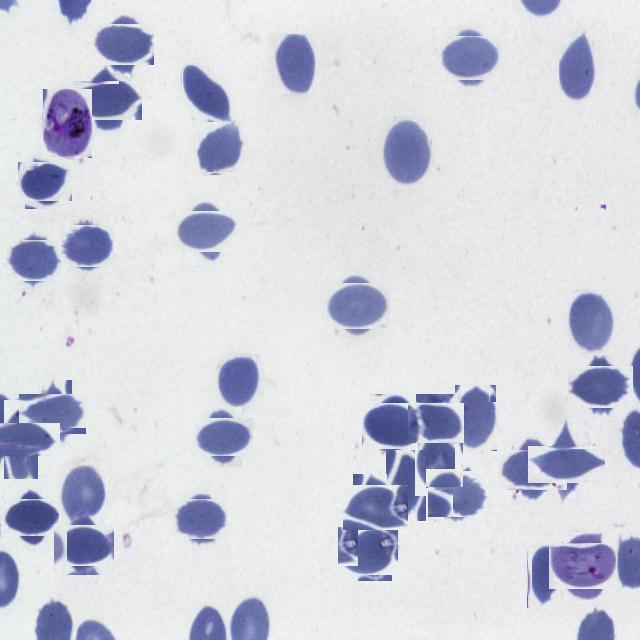red blood cell: (382, 116, 432, 189), (538, 436, 596, 494), (328, 278, 386, 334), (568, 288, 616, 354), (504, 442, 560, 498), (269, 34, 321, 94), (560, 28, 600, 106), (340, 523, 396, 578), (348, 479, 403, 535), (58, 464, 106, 526), (443, 31, 498, 85), (366, 398, 420, 453), (573, 359, 627, 414), (178, 204, 232, 258), (80, 74, 134, 128), (432, 467, 486, 521), (25, 387, 79, 441), (182, 65, 232, 123), (386, 450, 426, 521), (454, 385, 497, 451), (194, 120, 244, 176), (0, 412, 49, 468), (96, 18, 148, 70), (59, 518, 110, 570), (417, 433, 463, 488), (198, 412, 248, 462), (218, 354, 262, 408), (527, 542, 563, 608), (8, 493, 56, 542), (62, 222, 111, 270), (9, 236, 58, 284), (412, 398, 461, 446), (178, 495, 225, 543), (22, 158, 68, 205)
ring: (554, 538, 610, 594)
trophozoite: (42, 89, 92, 158)
